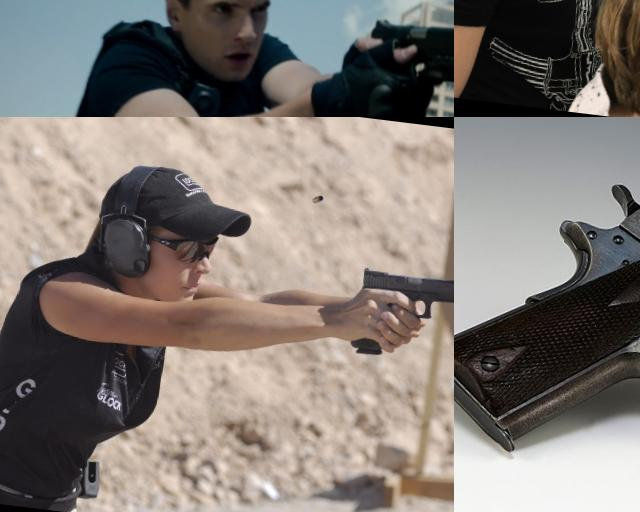handgun: (454, 156, 640, 512), (342, 260, 454, 371), (359, 5, 454, 111)
